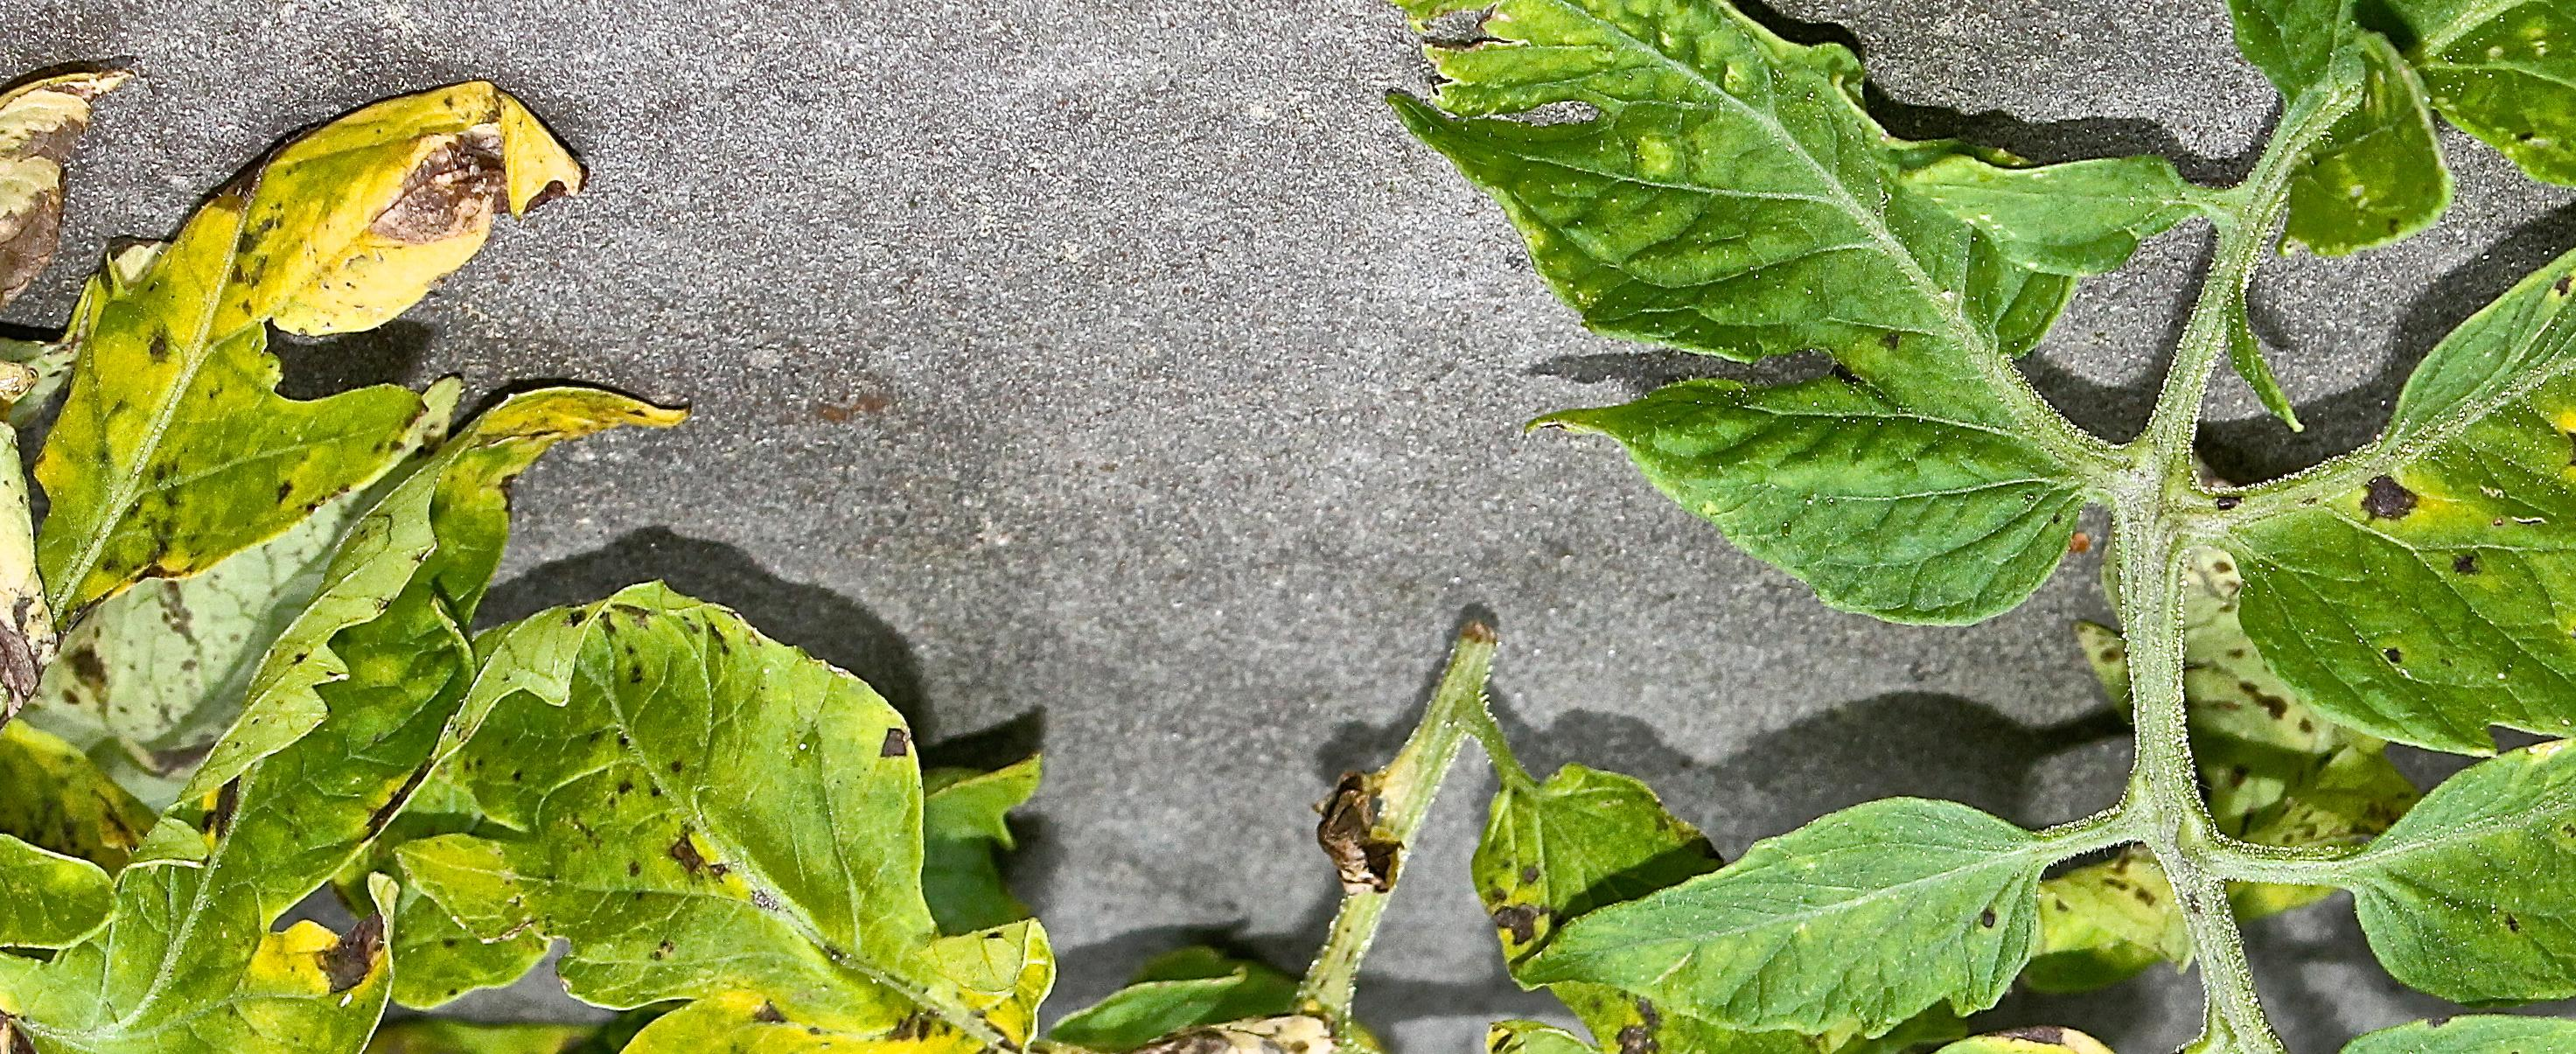Tomato Septoria leaf spot: (1275, 0, 2127, 593), (0, 87, 596, 717), (463, 606, 1161, 1054), (2203, 184, 2576, 740)
